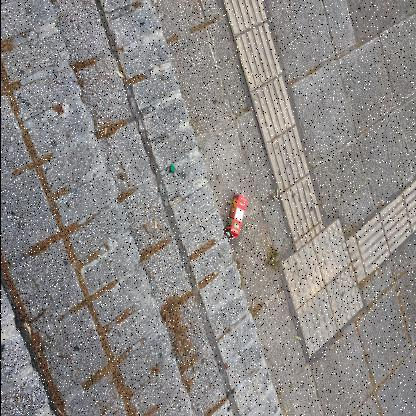cardboard: (225, 193, 247, 240)
